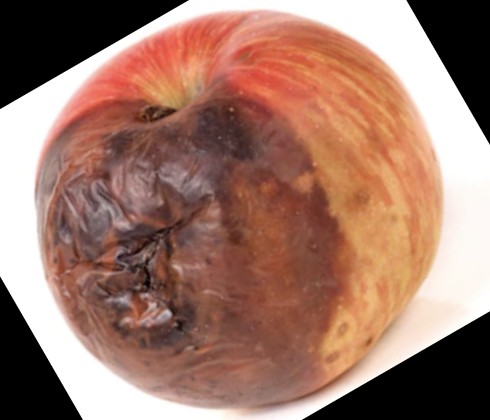rotten_apple: (35, 9, 445, 411)
